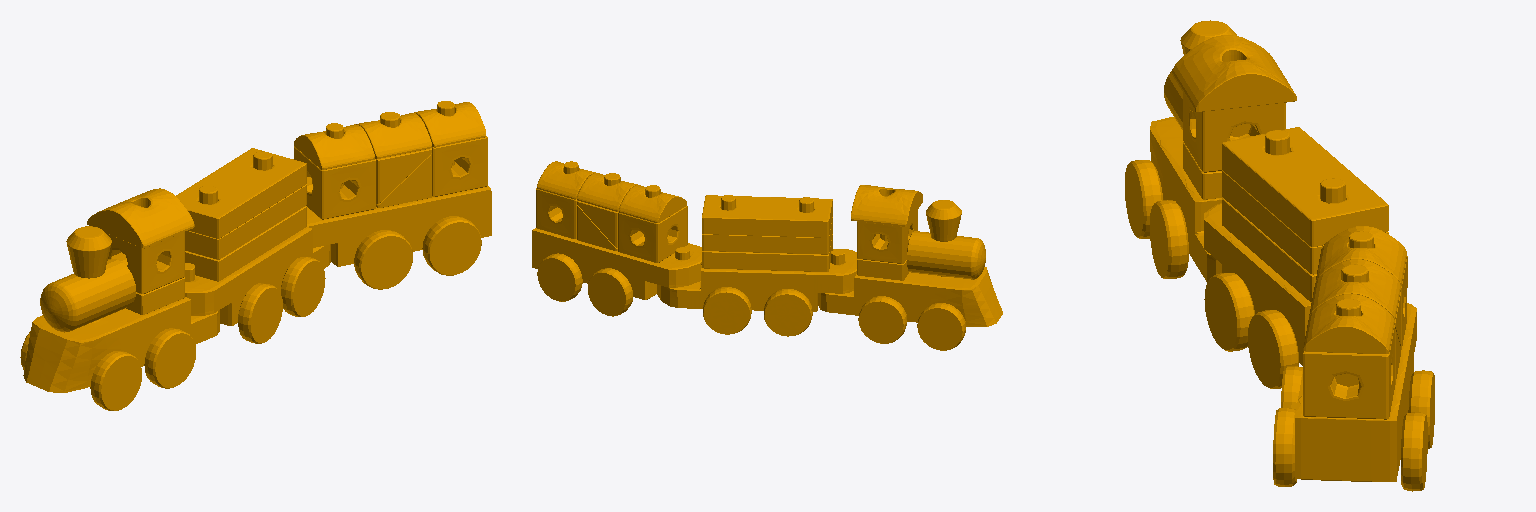
URDF robot description (none):
<robot name="none">
       <link name="none">
           <visual>
               <origin rpy="1.57 0 0" xyz="0 0 0" />
               <geometry>
                   <mesh filename="toyTrain.obj" />
               </geometry>
           </visual>
          <collision>
              <geometry>
                  <box size="1.000000 0.319392 0.409862" />
              </geometry>
          </collision>

          <inertial>
            <mass value="0.0" />
            <inertia ixx="0.0" ixy="0.0" ixz="0.0" iyy="0.0" iyz="0.0" izz="0.0" />
          </inertial>
      </link>
  </robot>

--- Render facts (derived) ---
3 views of the same robot in one strip: view 1: azimuth 30°, elevation 25°; view 2: azimuth 150°, elevation 25°; view 3: azimuth 270°, elevation 25° (orthographic).
Robot: none — 1 links, 0 joints (none); root link none; default pose: all joints at 0.
Links seen in each view (by area): view 1: none; view 2: none; view 3: none.
Link boxes in pixels (x1,y1,x2,y2): none: [20, 101, 491, 410]; none: [532, 161, 1002, 350]; none: [1125, 20, 1434, 491].
Bounding box of the posed robot: 1 × 0.4099 × 0.3196 m (x, y, z).
1 mesh visuals loaded from 1 distinct referenced files (1 OBJ).